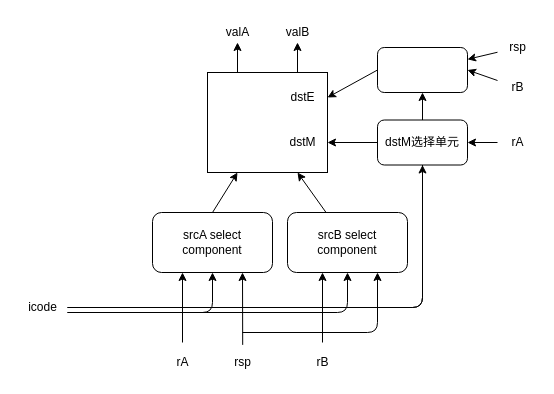
The diagram is 554 pixels wide and 394 high, and some of its shapes have lost their labels. The shapes that lost their labels are listed below. From the top down, each one's box as (x1, y1, x2, y2) in pixels, then its label:
(376, 46, 468, 92): dstE选择单元
(206, 72, 328, 172): 寄存器组
